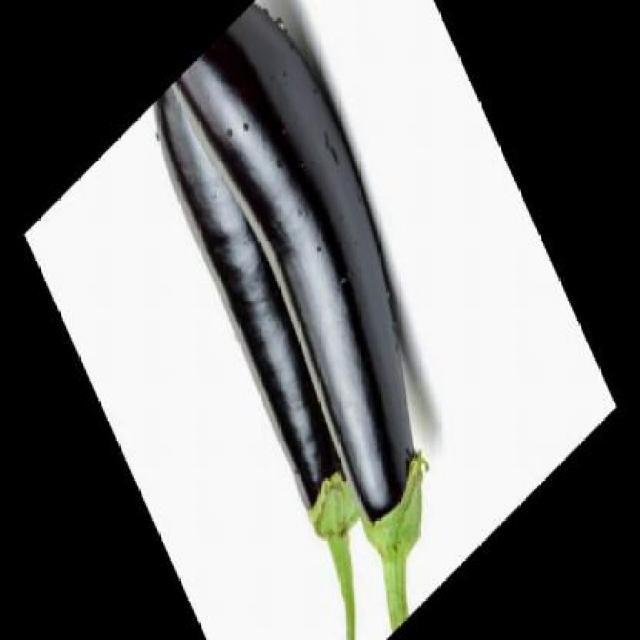eggplant: (129, 0, 513, 638), (116, 71, 416, 638)
